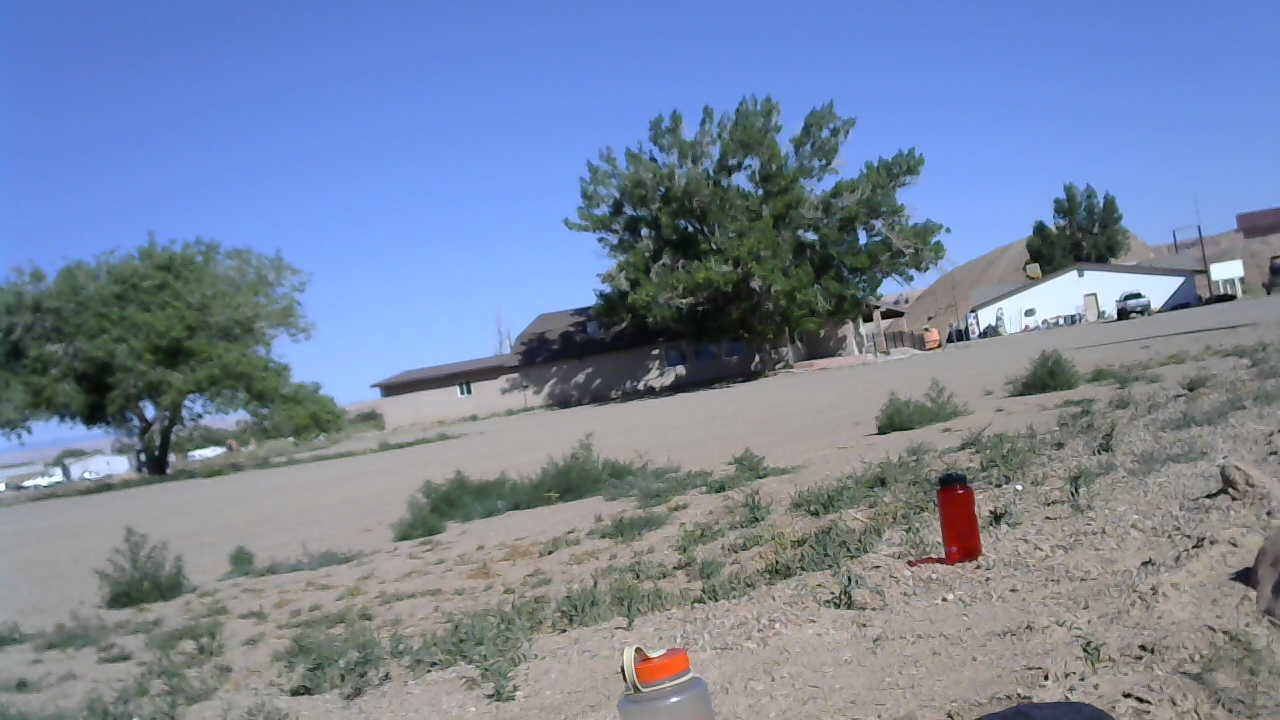bottle: (611, 635, 716, 720), (926, 461, 989, 569)
